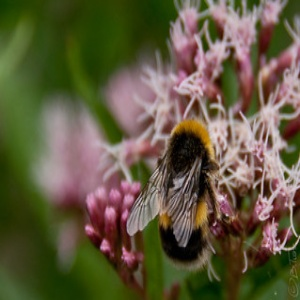bee: (127, 117, 215, 272)
